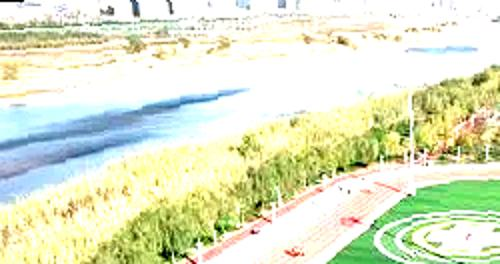Apron: (410, 212, 500, 261)
